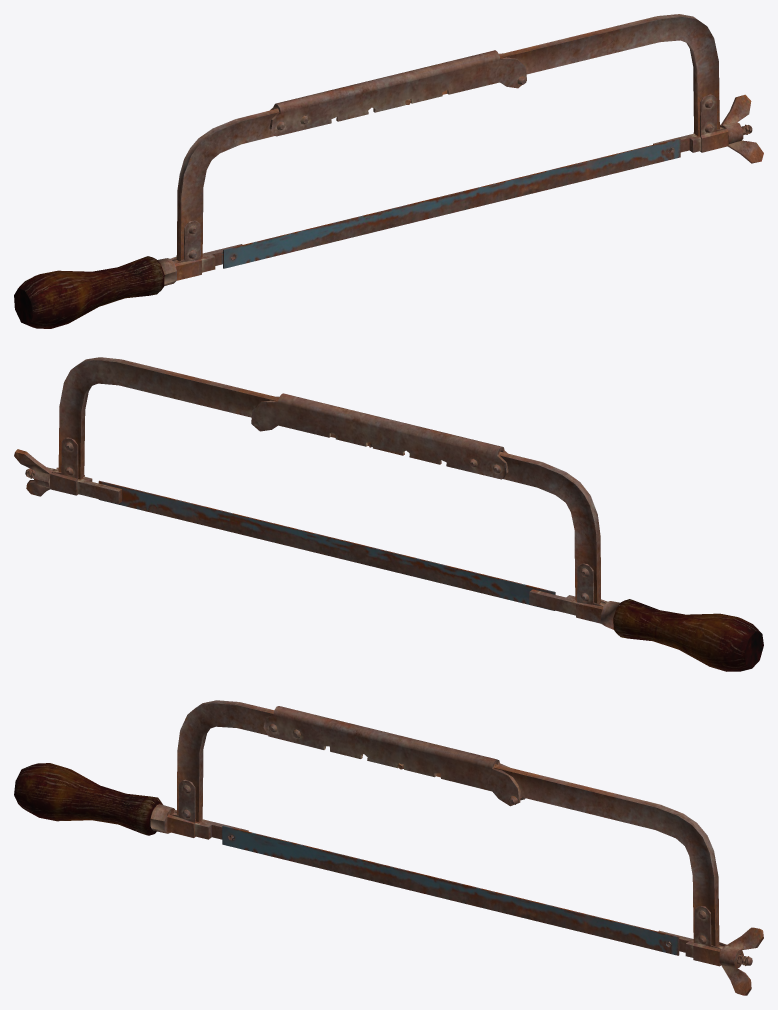
The model's file is rusted_hacksaw.glb.
3 views of the same model, one above another, from view 1: azimuth 30°, elevation 25°; view 2: azimuth 150°, elevation 25°; view 3: azimuth 330°, elevation 25° (orthographic).
Visible parts, largest first — view 1: rusted_hacksaw; view 2: rusted_hacksaw; view 3: rusted_hacksaw.
Boxes of the visible parts, x1,y1,x2,y2 form: rusted_hacksaw: [14, 14, 763, 328]; rusted_hacksaw: [14, 357, 763, 671]; rusted_hacksaw: [14, 700, 763, 995].
Size of what is drawn, in the model's own units: 0.4966 by 0.109 by 0.0328.
1 material, 1 textured.
